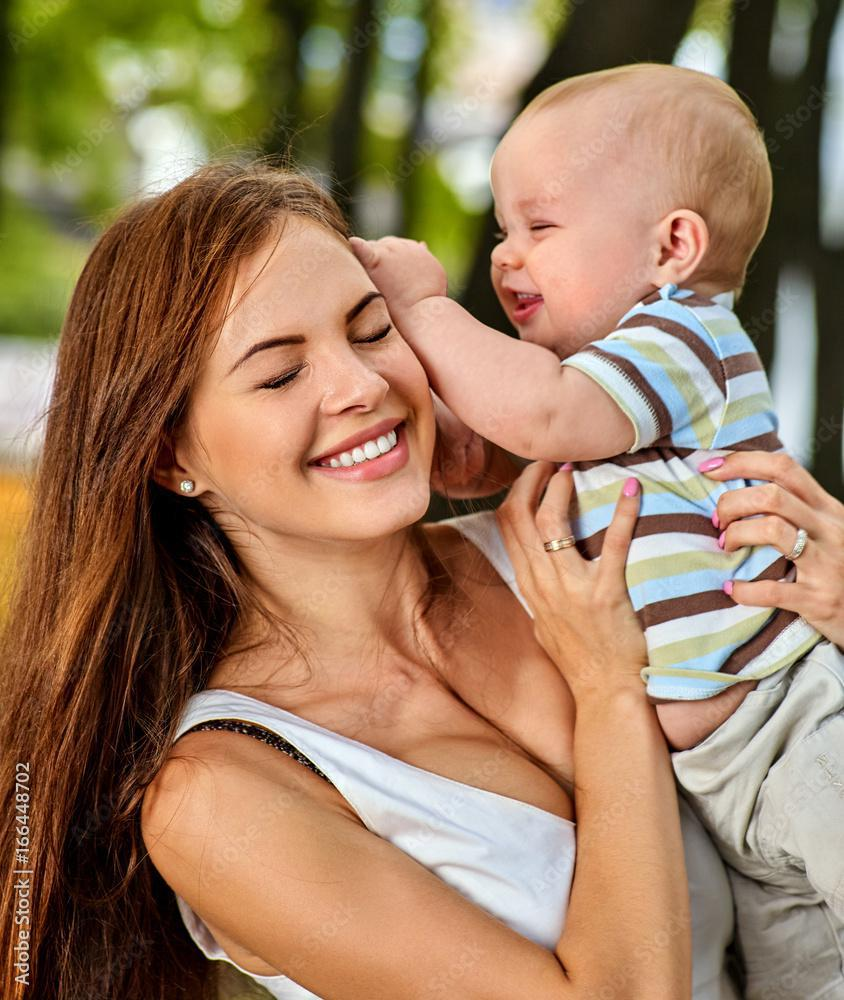child: (456, 47, 844, 1000)
